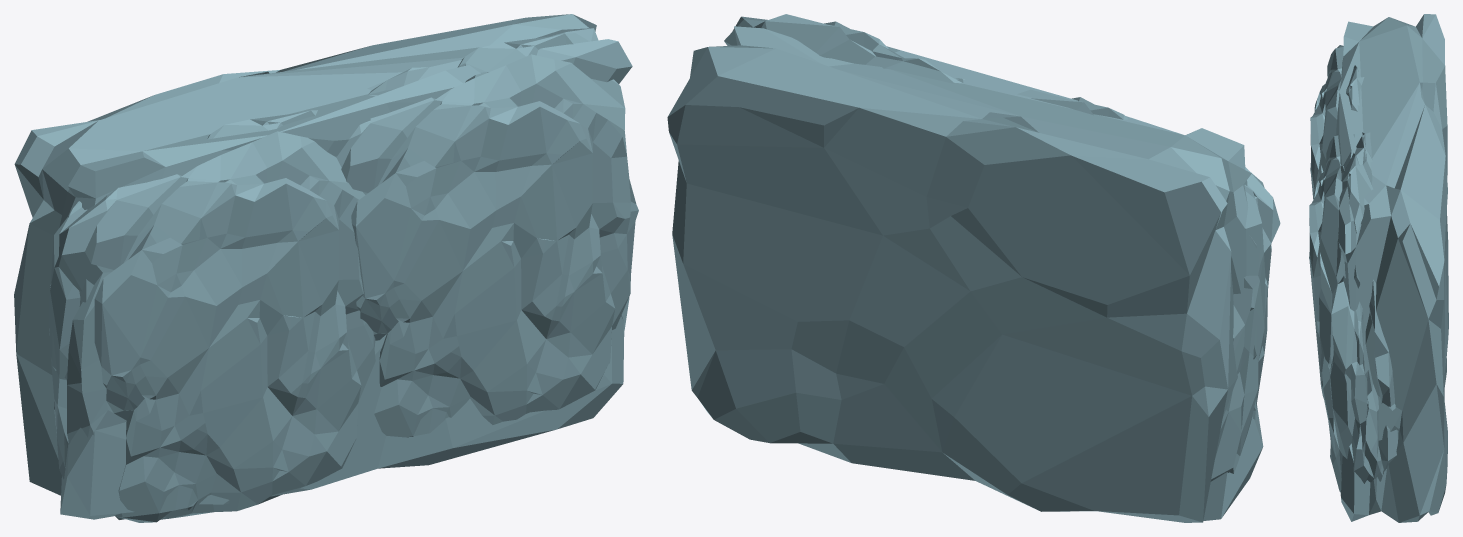
Rendered from Push_Sphere_Wall.fbx.
The picture shows the model from 3 angles, left to right: view 1: azimuth 30°, elevation 25°; view 2: azimuth 150°, elevation 25°; view 3: azimuth 270°, elevation 25°; orthographic projection. The views are drawn at different scales.
Parts seen in each view (by area): view 1: Cube.005; view 2: Cube.005; view 3: Cube.005.
Part boxes in pixels (left/top/right/bottom): Cube.005: left=14, top=14, right=638, bottom=522; Cube.005: left=667, top=14, right=1280, bottom=522; Cube.005: left=1309, top=14, right=1448, bottom=522.
Bounding box in the file's own units: 2286 × 1540 × 590.
